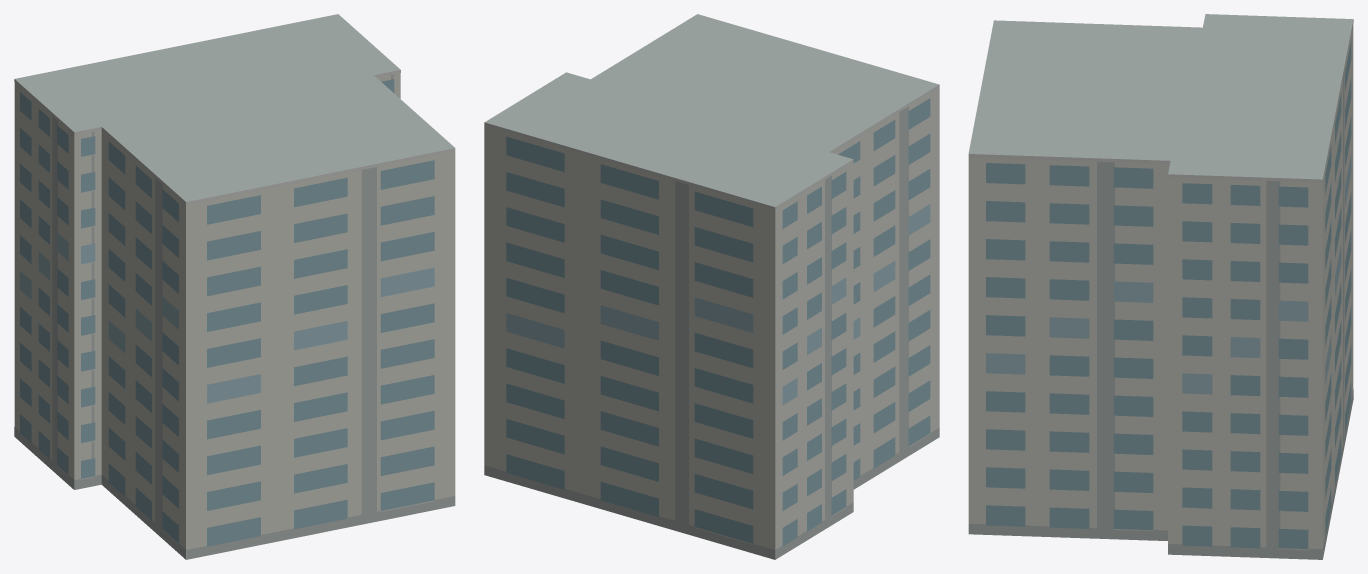
Rendered from residential-9360587e-f2fb-4b34-be83-4d24fb2ddc82.glb.
3 views of the same model, side by side, from view 1: azimuth 30°, elevation 25°; view 2: azimuth 150°, elevation 25°; view 3: azimuth 270°, elevation 25° (orthographic). The views are drawn at different scales.
Visible parts, largest first — view 1: residential-9360587e-f2fb-4b34-be83-4d24fb2ddc82.tmp; view 2: residential-9360587e-f2fb-4b34-be83-4d24fb2ddc82.tmp; view 3: residential-9360587e-f2fb-4b34-be83-4d24fb2ddc82.tmp.
Boxes of the visible parts, x1,y1,x2,y2 form: residential-9360587e-f2fb-4b34-be83-4d24fb2ddc82.tmp: (14,14,455,559); residential-9360587e-f2fb-4b34-be83-4d24fb2ddc82.tmp: (484,14,939,559); residential-9360587e-f2fb-4b34-be83-4d24fb2ddc82.tmp: (968,14,1353,559).
Size of the model in its own units: 26.14 by 28 by 25.69.
